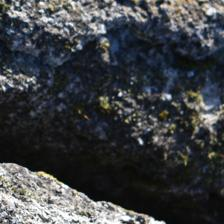Crack: (3, 79, 158, 143)
